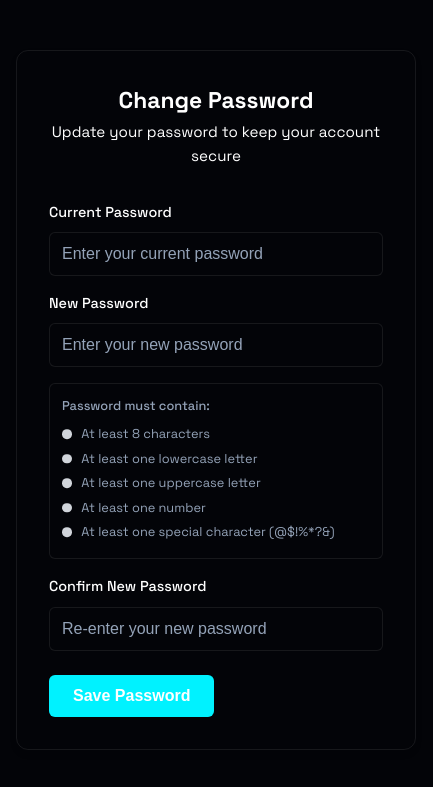
Test case: ChangePasswordForm › Form submission › should validate password confirmation match
The width and height of the screenshot is (433, 787).
Type "OldPass123!" into the password field labelled "Current Password". click: (216, 254)
box: [49,232,383,276]
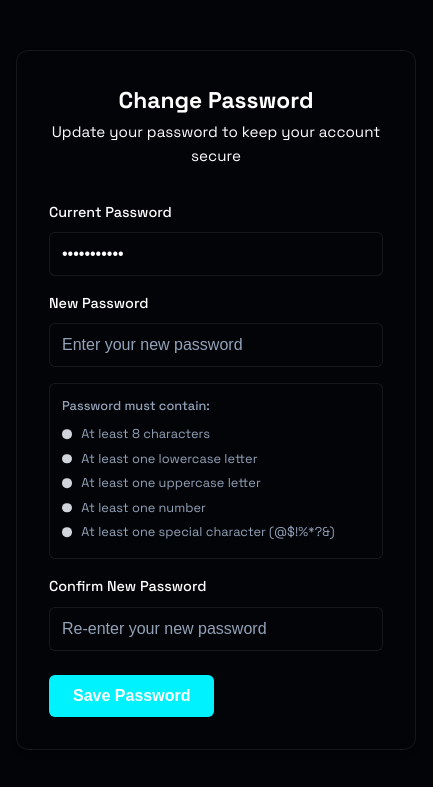
Type "NewPass123!" into the password field labelled "New Password". click: (216, 345)
box: [49,323,383,367]
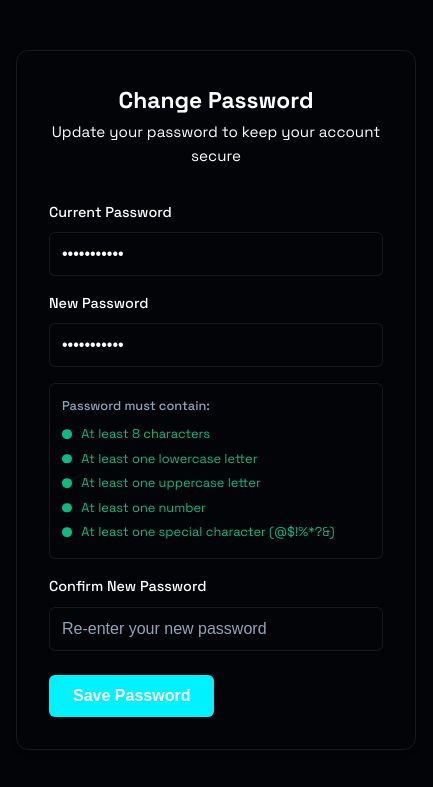
Type "DifferentPass123!" into the password field labelled "Confirm New Password". click: (216, 628)
box: [49,606,383,650]
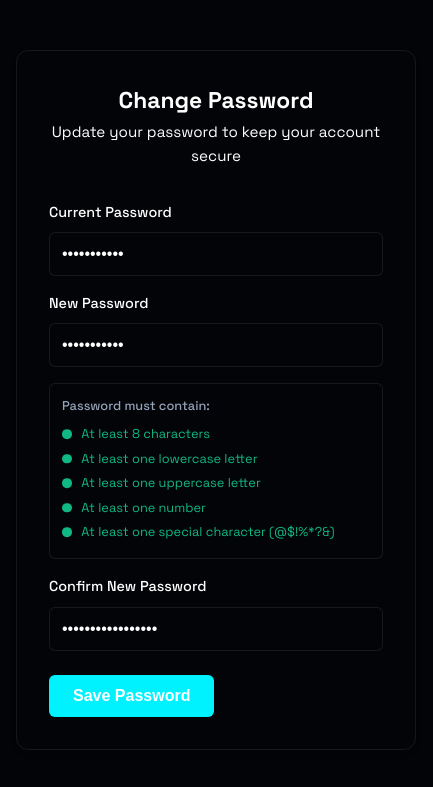
Click the button "Save Password". click: click(132, 696)
box: [49,674,214,716]
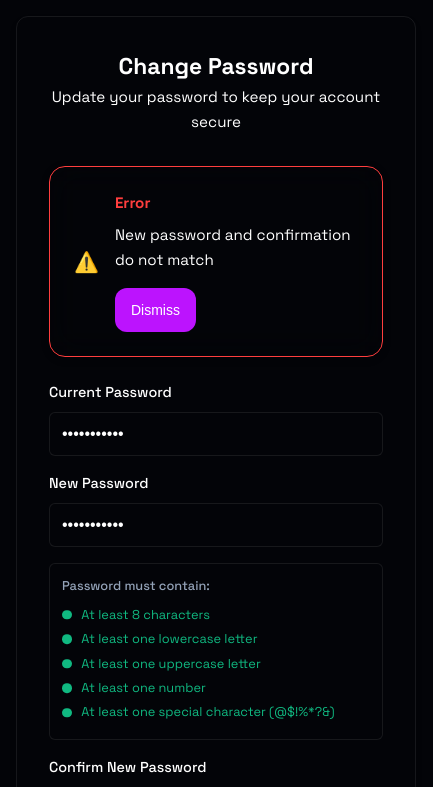
Now the text "New password and confirmation do not match" is shown, box [115,223,358,272]
